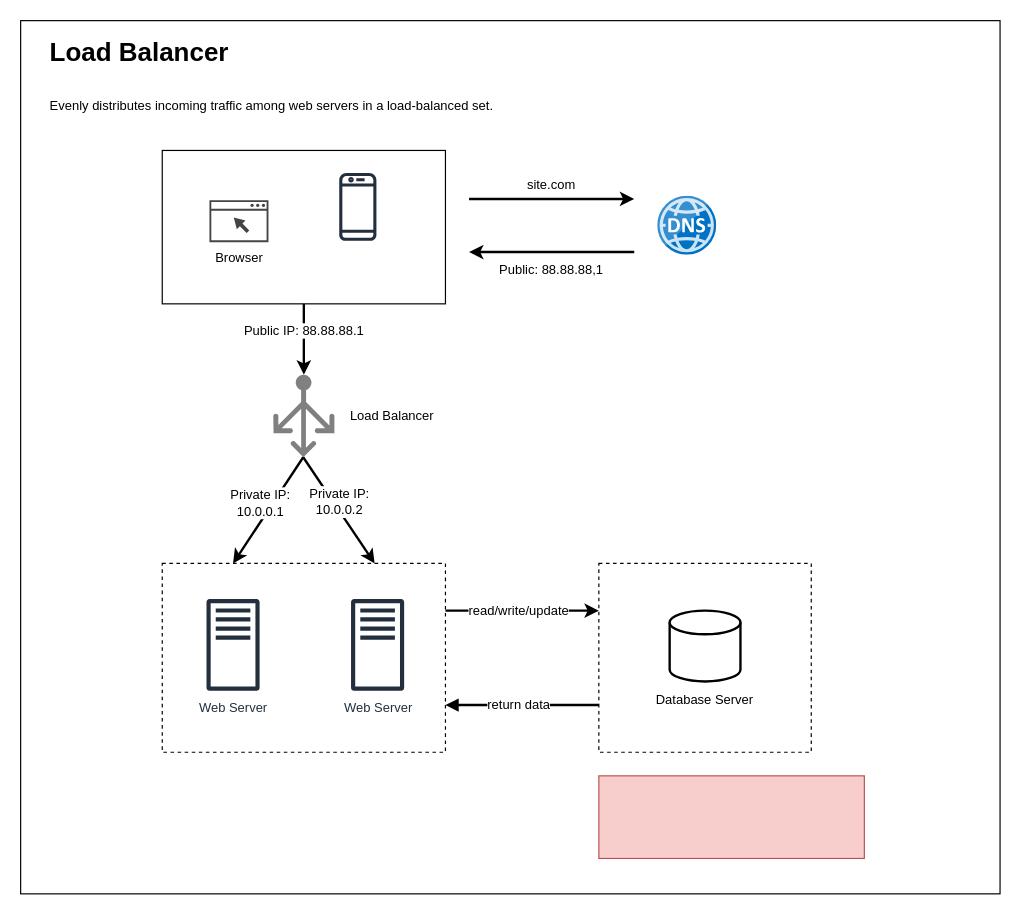
Image size: 1021x914. Some labels were removed from this diagram. The shapes that lost their labels are listed below. From the top down, each one's centre as x and y in pixels, then its label:
At point (357, 206): "Mobile".
At point (731, 816): "Design does not support failover and redundancy for the Database server.".
